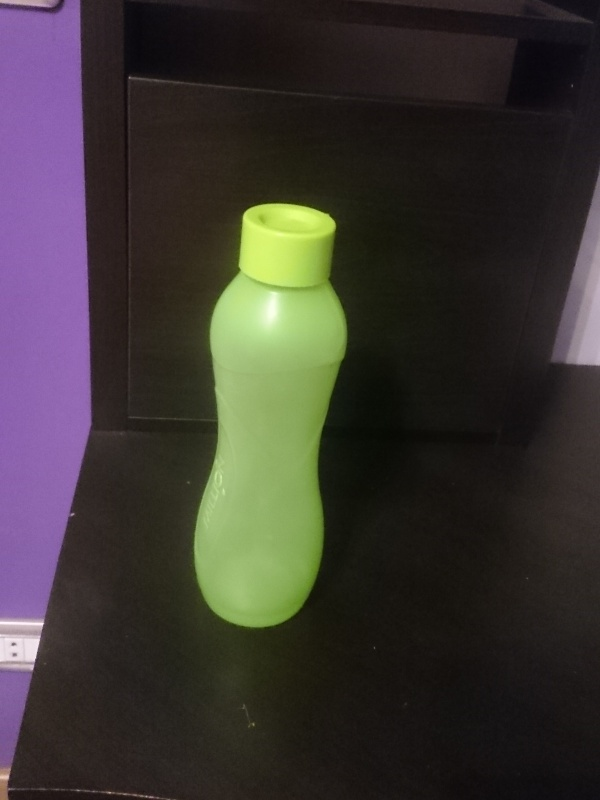my bottle: (190, 203, 350, 635)
